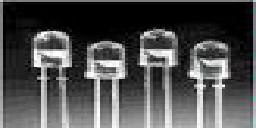LED: (26, 28, 75, 128), (136, 25, 181, 128), (186, 39, 234, 128), (82, 39, 129, 128)
